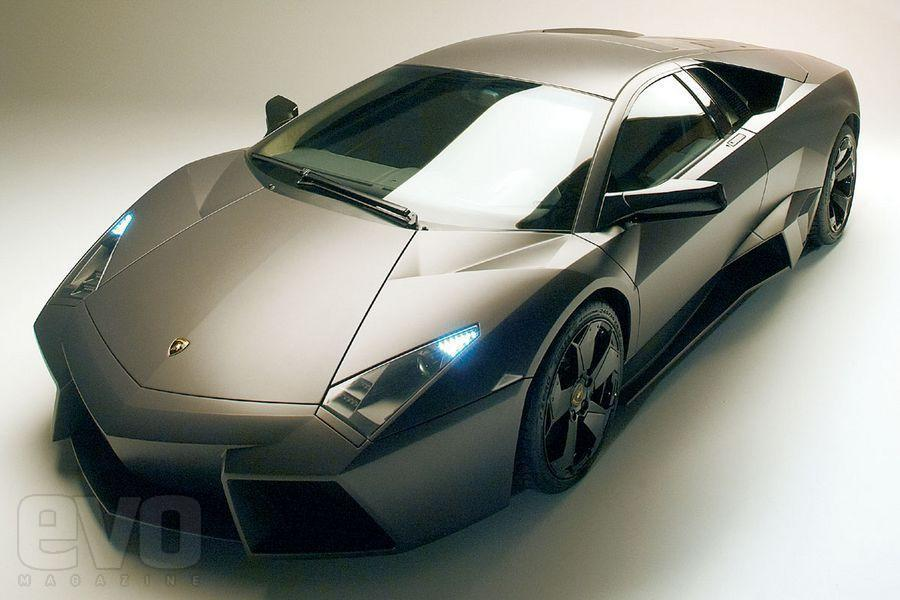Car: (14, 6, 900, 580)
